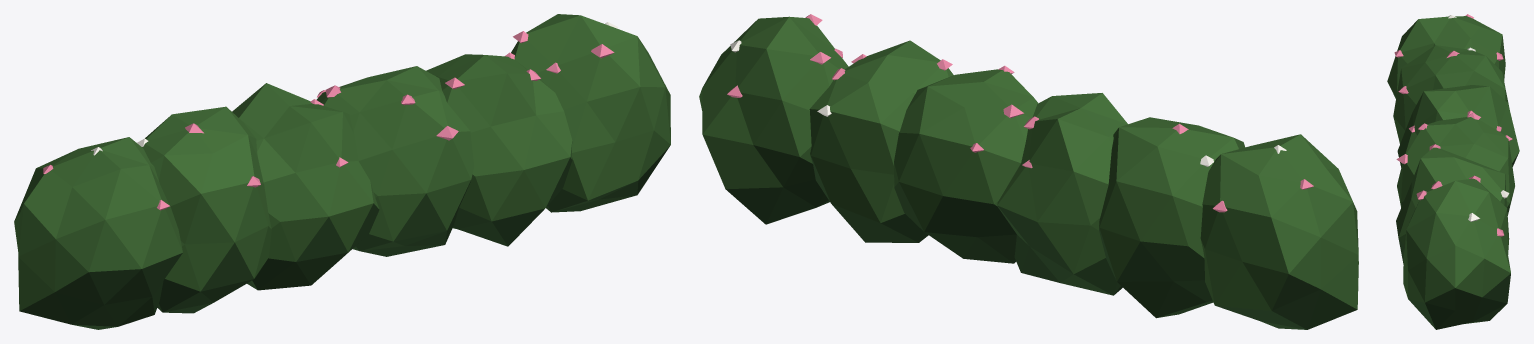
File: SM_Street_Hedge_AzaleaBloom_200_01.gltf
3 views of the same model, side by side, from view 1: azimuth 30°, elevation 25°; view 2: azimuth 150°, elevation 25°; view 3: azimuth 270°, elevation 25° (orthographic). The views are drawn at different scales.
Parts seen in each view (by area): view 1: SM_Street_Hedge_AzaleaBloom_200_01; view 2: SM_Street_Hedge_AzaleaBloom_200_01; view 3: SM_Street_Hedge_AzaleaBloom_200_01.
Boxes of the visible parts, <box> form: SM_Street_Hedge_AzaleaBloom_200_01: <box>14,14,670,329</box>; SM_Street_Hedge_AzaleaBloom_200_01: <box>699,14,1358,329</box>; SM_Street_Hedge_AzaleaBloom_200_01: <box>1387,14,1519,329</box>.
Bounding box in the file's own units: 1.96 × 0.58 × 0.4662.
Materials: 1 (1 with a texture image).
